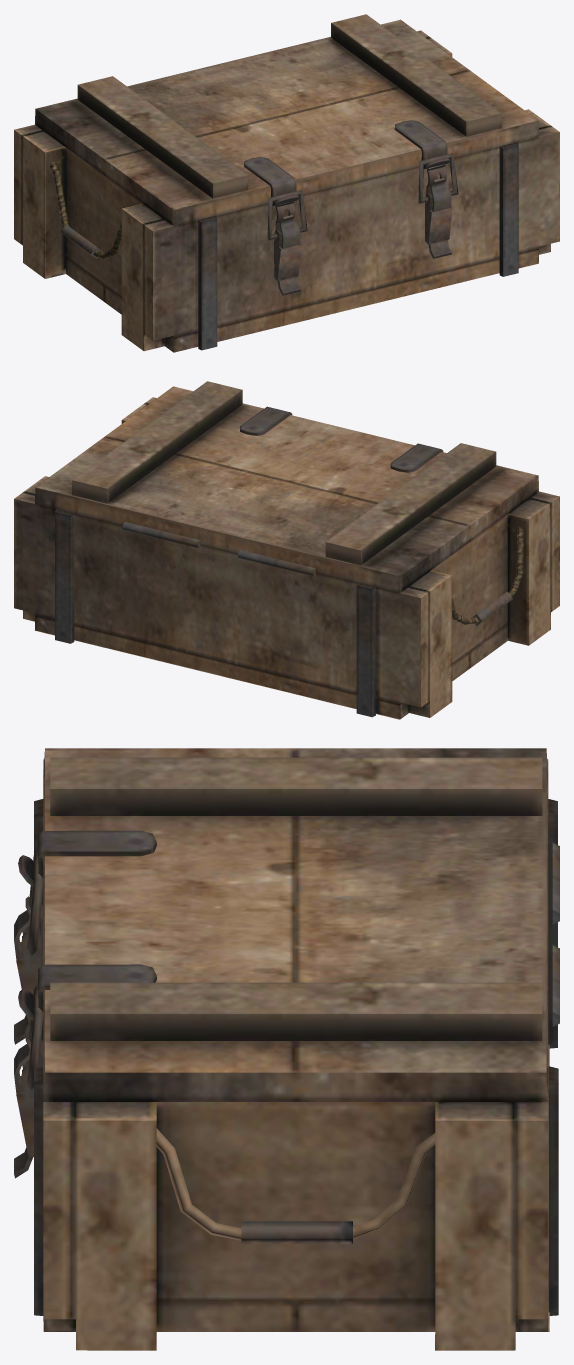
The model's file is pubg_mobile_death_box.glb.
3 views of the same model, one above another, from view 1: azimuth 30°, elevation 25°; view 2: azimuth 150°, elevation 25°; view 3: azimuth 270°, elevation 25° (orthographic). The views are drawn at different scales.
Visible parts, largest first — view 1: Ammo_DropBox_013.mo.001; view 2: Ammo_DropBox_013.mo.001; view 3: Ammo_DropBox_013.mo.001.
Boxes of the visible parts, <box> form: Ammo_DropBox_013.mo.001: <box>14,14,559,352</box>; Ammo_DropBox_013.mo.001: <box>14,381,559,719</box>; Ammo_DropBox_013.mo.001: <box>14,748,559,1350</box>.
Bounding box in the file's own units: 5.83 × 2.11 × 3.59.
Materials: 1 (1 with a texture image).
